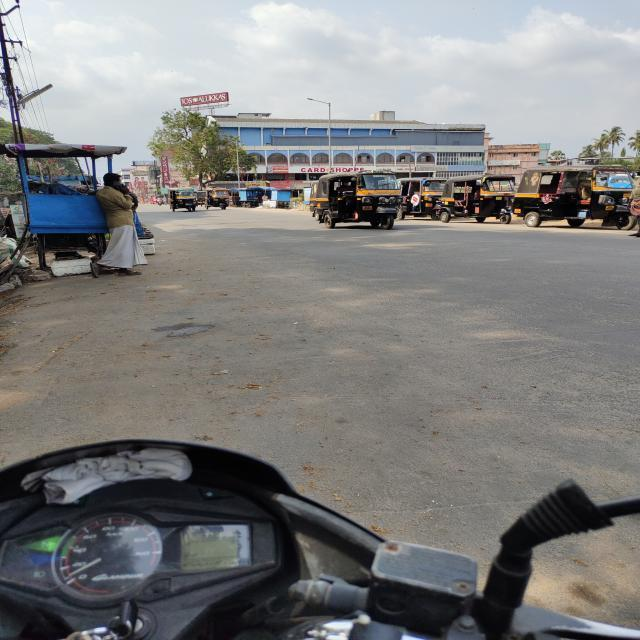auto_front: (509, 160, 636, 242), (313, 163, 409, 241), (436, 169, 522, 228), (396, 175, 446, 222), (166, 184, 202, 216), (201, 186, 233, 212)
